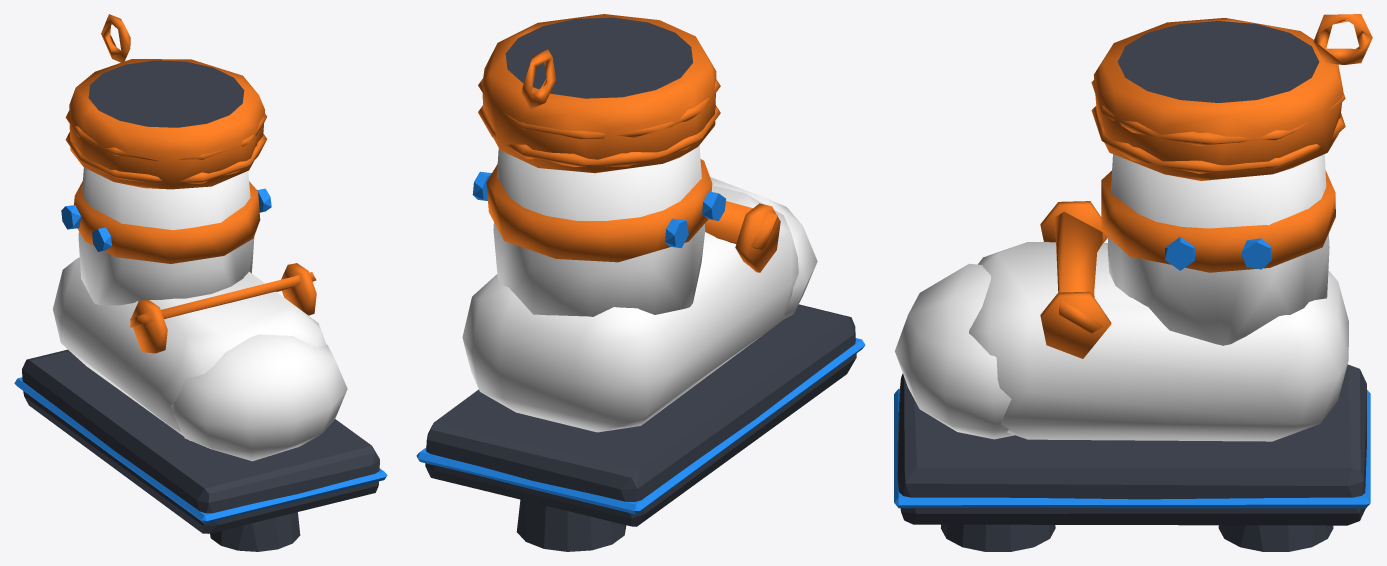
File: chaussures_reaction.fbx
3 renders of one model, left to right at view 1: azimuth 30°, elevation 25°; view 2: azimuth 150°, elevation 25°; view 3: azimuth 270°, elevation 25°, orthographic. The views are drawn at different scales.
Parts seen in each view (by area): view 1: chaussures_reaction_Blanc, chaussures_reaction_Gris, chaussures_reaction_Orange, chaussures_reaction_Bleu; view 2: chaussures_reaction_Blanc, chaussures_reaction_Gris, chaussures_reaction_Orange, chaussures_reaction_Bleu; view 3: chaussures_reaction_Blanc, chaussures_reaction_Gris, chaussures_reaction_Orange, chaussures_reaction_Bleu.
Boxes of the visible parts, box(x1,y1,x2,y2) form: chaussures_reaction_Blanc: box(53, 167, 347, 461); chaussures_reaction_Gris: box(22, 60, 379, 551); chaussures_reaction_Orange: box(65, 14, 316, 353); chaussures_reaction_Bleu: box(14, 188, 387, 523); chaussures_reaction_Blanc: box(462, 145, 817, 432); chaussures_reaction_Gris: box(425, 17, 856, 551); chaussures_reaction_Orange: box(478, 14, 780, 272); chaussures_reaction_Bleu: box(416, 171, 865, 514); chaussures_reaction_Blanc: box(895, 154, 1348, 441); chaussures_reaction_Gris: box(897, 21, 1366, 551); chaussures_reaction_Orange: box(1040, 14, 1372, 358); chaussures_reaction_Bleu: box(894, 237, 1370, 508).
Bounding box in the file's own units: 1.4 × 2.99 × 2.5.
